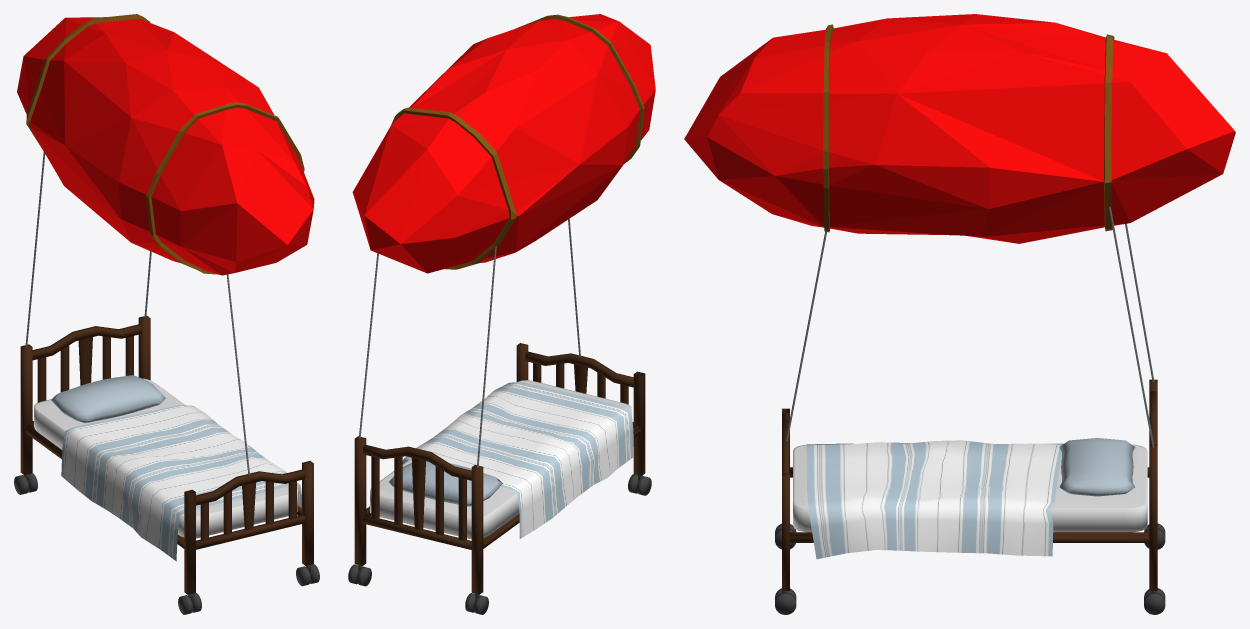
The model's file is krevet_padobran.fbx.
3 renders of one model, left to right at view 1: azimuth 30°, elevation 25°; view 2: azimuth 150°, elevation 25°; view 3: azimuth 270°, elevation 25°, orthographic. The views are drawn at different scales.
Visible parts, largest first — view 1: LP_Airship_pCube5.001, bed01_two_old_beds.005, Cylinder.008; view 2: LP_Airship_pCube5.001, bed01_two_old_beds.005, Cylinder.008; view 3: LP_Airship_pCube5.001, bed01_two_old_beds.005, Cylinder.008.
Part boxes in pixels (left/top/right/bottom): LP_Airship_pCube5.001: left=17, top=14, right=314, bottom=275; bed01_two_old_beds.005: left=20, top=315, right=313, bottom=594; Cylinder.008: left=25, top=152, right=249, bottom=474; LP_Airship_pCube5.001: left=352, top=14, right=655, bottom=273; bed01_two_old_beds.005: left=354, top=343, right=645, bottom=594; Cylinder.008: left=359, top=219, right=580, bottom=467; LP_Airship_pCube5.001: left=684, top=14, right=1235, bottom=243; bed01_two_old_beds.005: left=782, top=379, right=1157, bottom=590; Cylinder.008: left=786, top=206, right=1154, bottom=447.
Size of the model in its own units: 280 by 742 by 671.
Materials: 9 (1 with a texture image).
